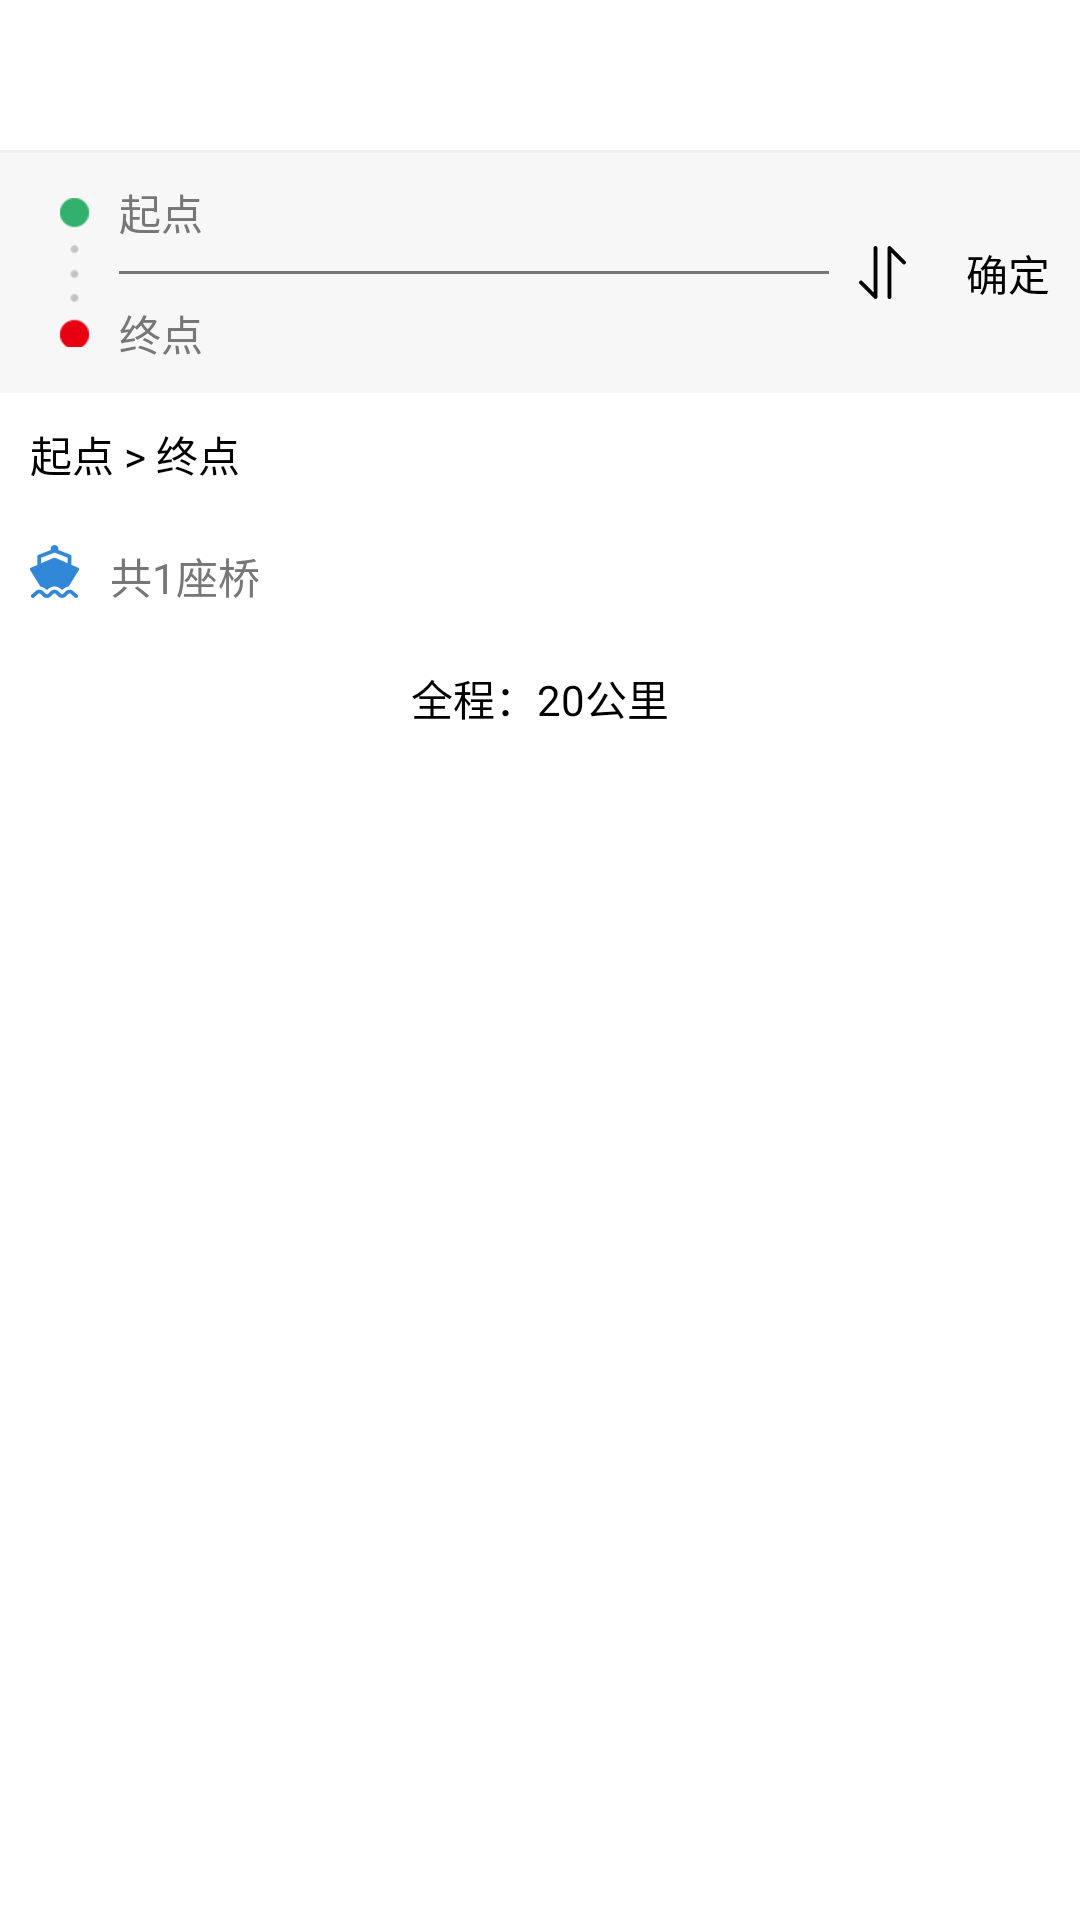

Icon bounding boxes for this 1080×1920 phone screenshot, format (x1, y1, x2, y2):
conver: (859, 246, 906, 299)
path ship: (30, 545, 79, 598)
